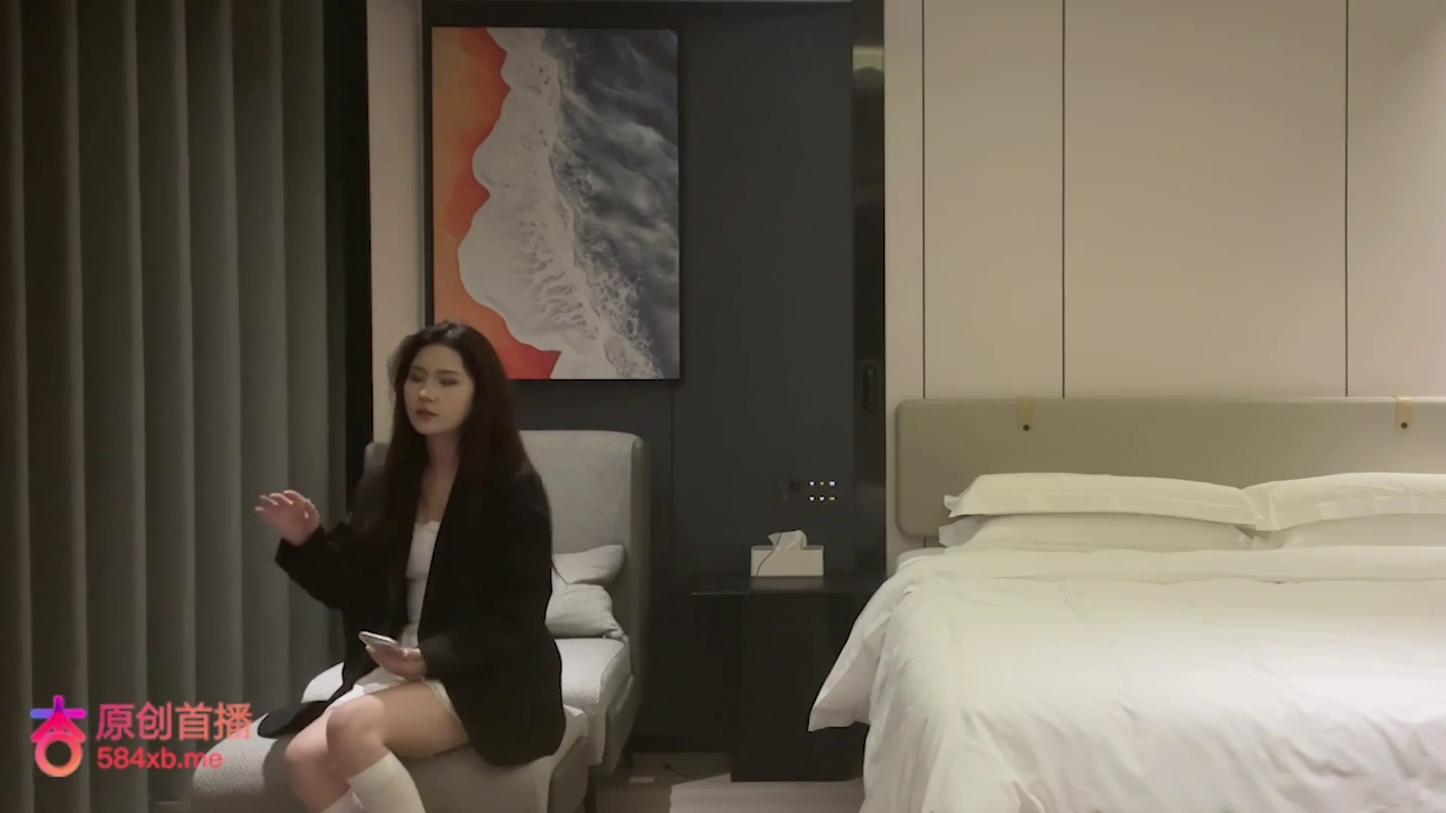sit: (252, 318, 566, 811)
